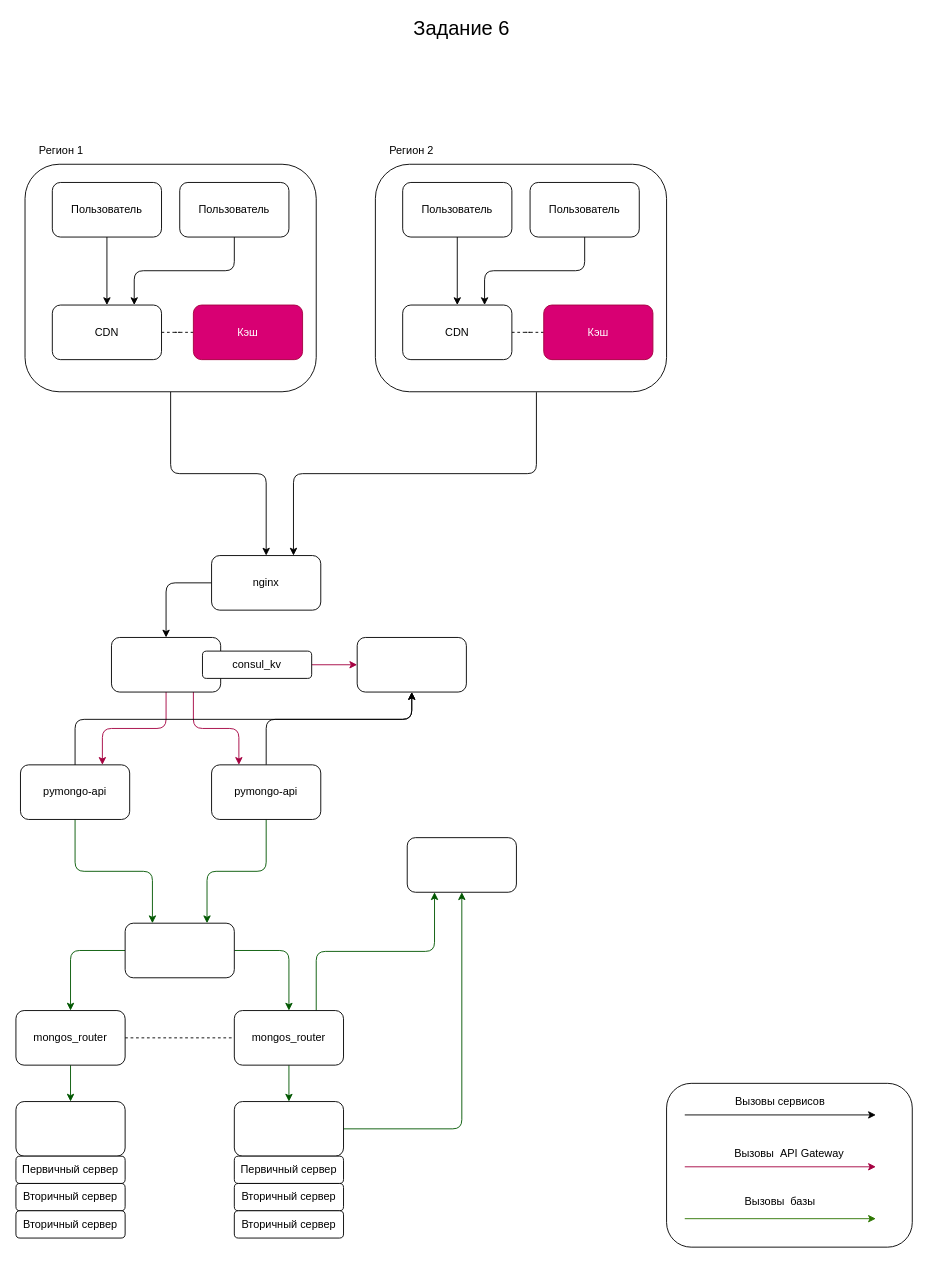
This 928x1263 diagram has some shape labels left out. Each missing label, with the box of its shape:
APISIX Gateway: (111, 637, 221, 692)
configSrv: (406, 837, 516, 892)
Consul: (356, 637, 466, 692)
shard1-1: (15, 1101, 125, 1156)
shard1-2: (233, 1101, 344, 1156)
Драйвер: (124, 922, 234, 978)
